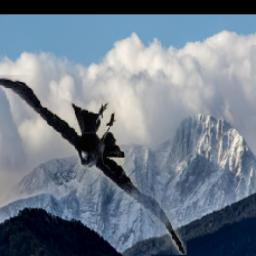Crow: (0, 75, 187, 255)
